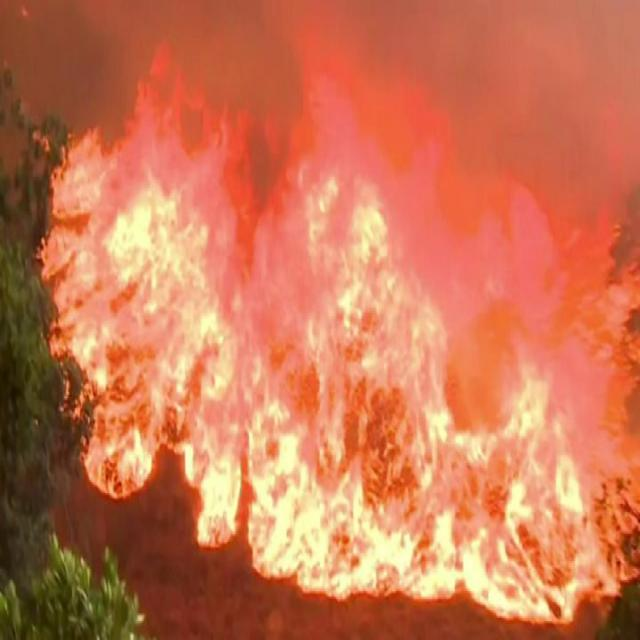Fire: (40, 35, 640, 626)
